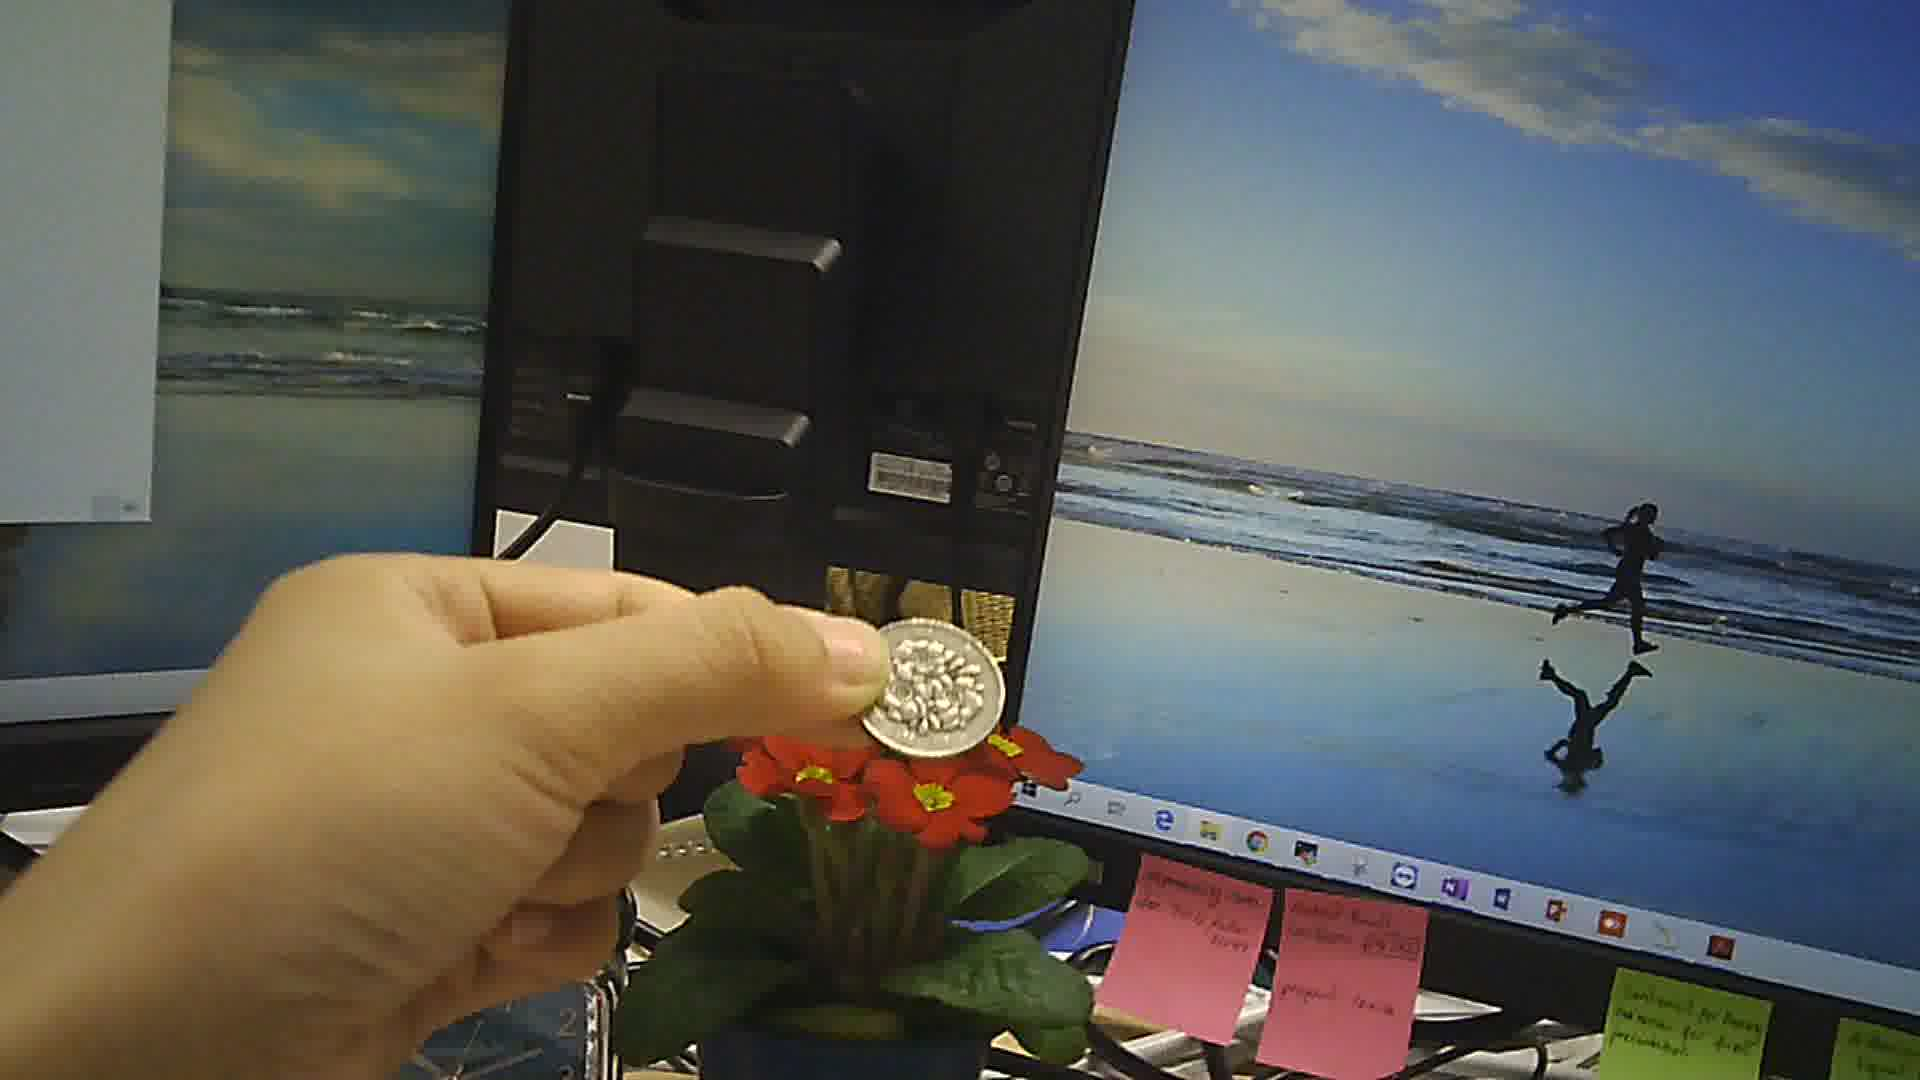100 Yen: (851, 618, 1009, 758)
